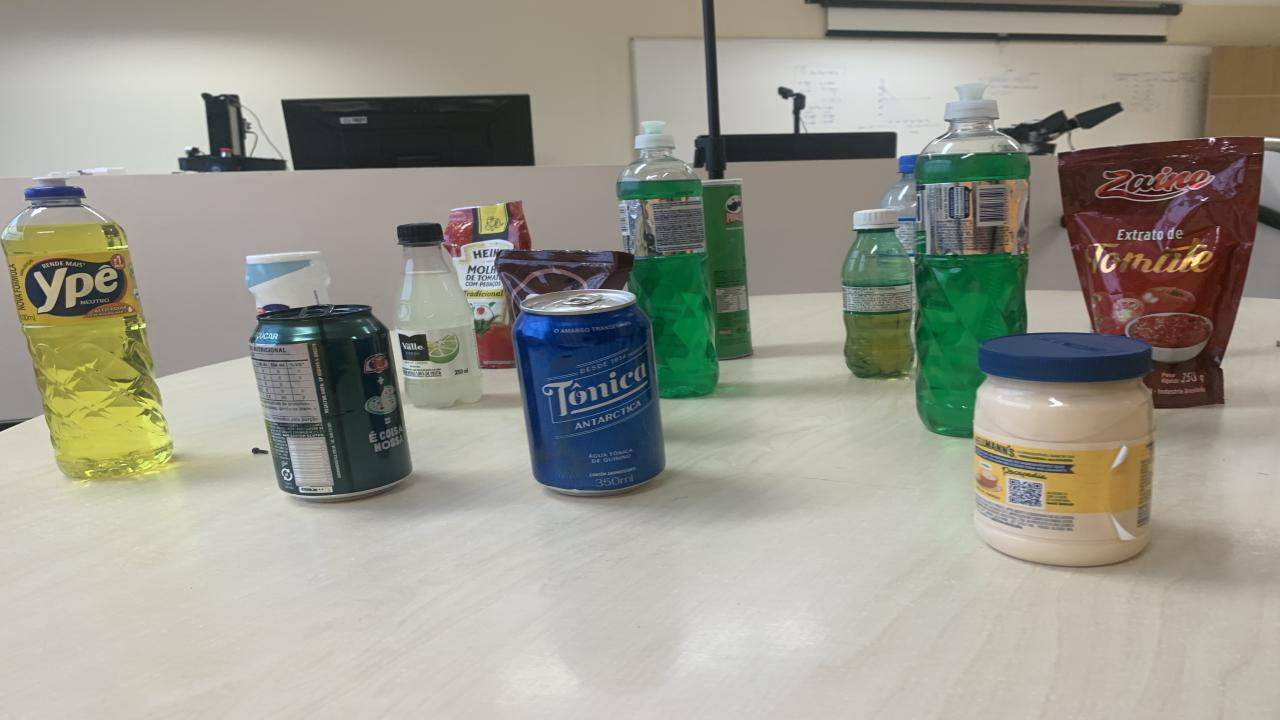Cleaner-Cleanup_Items: (245, 251, 330, 313)
Coffee-Pantry_Items: (495, 249, 635, 322)
Detergent-Cleanup_Items: (0, 178, 172, 478), (915, 84, 1030, 437), (618, 120, 718, 398)
Guarana-Drinks: (842, 210, 912, 379)
Guarana_Can-Drinks: (250, 304, 412, 499)
Mayonnaise-Pantry_Items: (975, 332, 1155, 566)
Pringles-Snacks: (702, 178, 752, 360)
Soda-Drinks: (395, 223, 482, 407)
Tomato_Sauce-Pantry_Items: (1058, 137, 1262, 407), (442, 201, 530, 368)
Tonic-Drinks: (512, 291, 665, 495)
Water_Bottle-Drinks: (878, 154, 918, 257)
